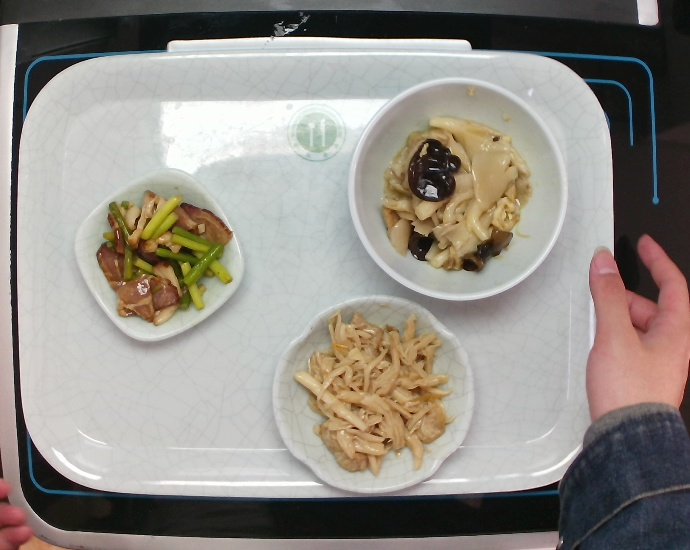JYsf-Ao_Yuan_Wan: (267, 288, 483, 499)
JYsf-Fan_Wan: (344, 74, 574, 306)
JYsf-Si_Fang_Die: (62, 160, 252, 348)
